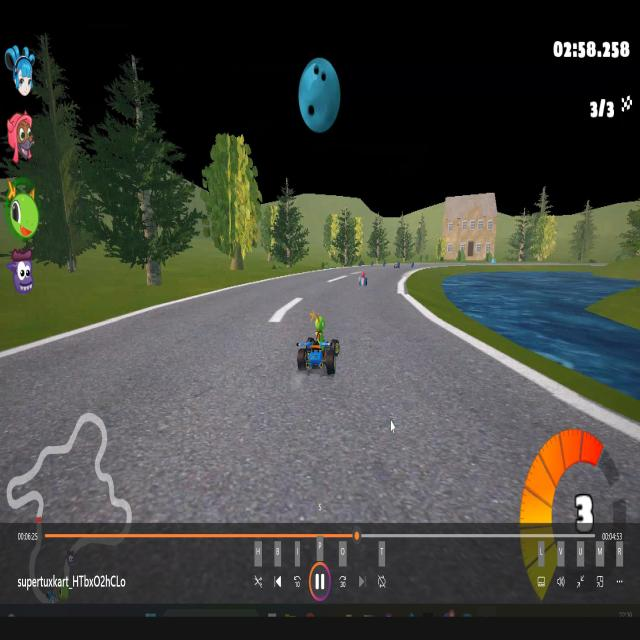enemy_kart: (356, 270, 371, 291), (393, 258, 401, 268)
player_kart: (294, 316, 340, 384)
track: (170, 284, 289, 508), (344, 312, 436, 502)
